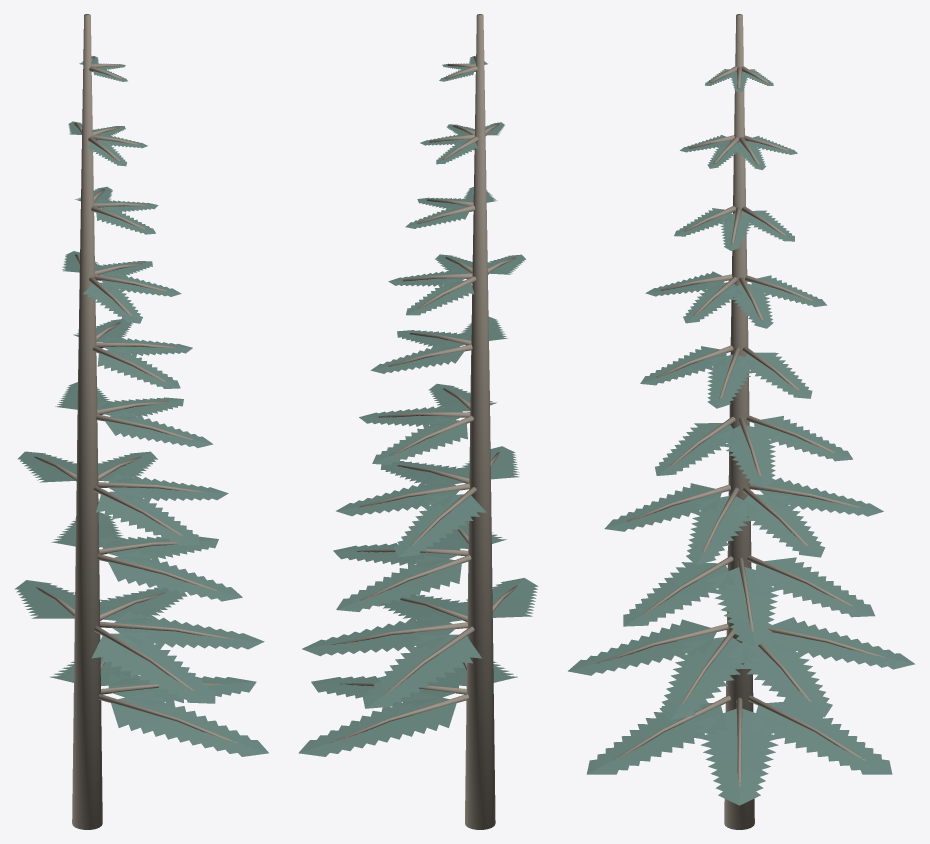
Rendered from alpine-and-arctic-biomes-timberline-tree-4975b730.glb.
3 views of the same model, side by side, from view 1: azimuth 30°, elevation 25°; view 2: azimuth 150°, elevation 25°; view 3: azimuth 270°, elevation 25° (orthographic).
Parts seen in each view (by area): view 1: timberline-tree; view 2: timberline-tree; view 3: timberline-tree.
Part boxes in pixels (left/top/right/bottom): timberline-tree: left=14, top=14, right=268, bottom=829; timberline-tree: left=298, top=14, right=538, bottom=829; timberline-tree: left=568, top=14, right=915, bottom=829.
Bounding box in the file's own units: 1.01 × 3.91 × 1.53.
